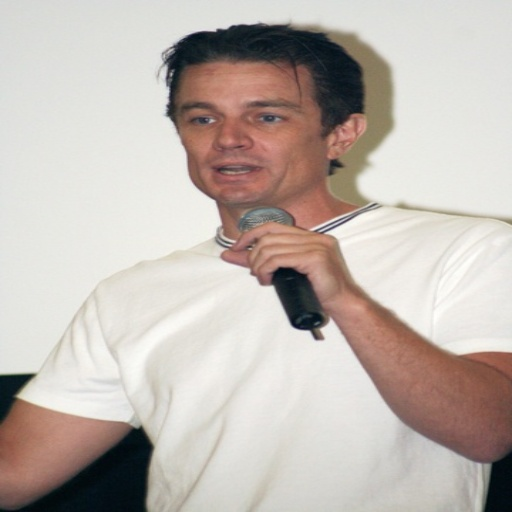hand: (238, 241, 354, 329)
